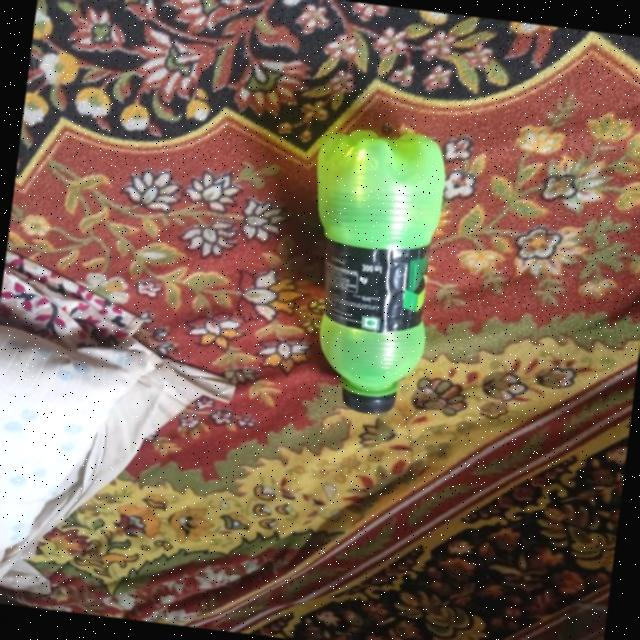bottle: (283, 116, 462, 424)
cap: (338, 383, 396, 423)
label: (306, 235, 432, 338)
